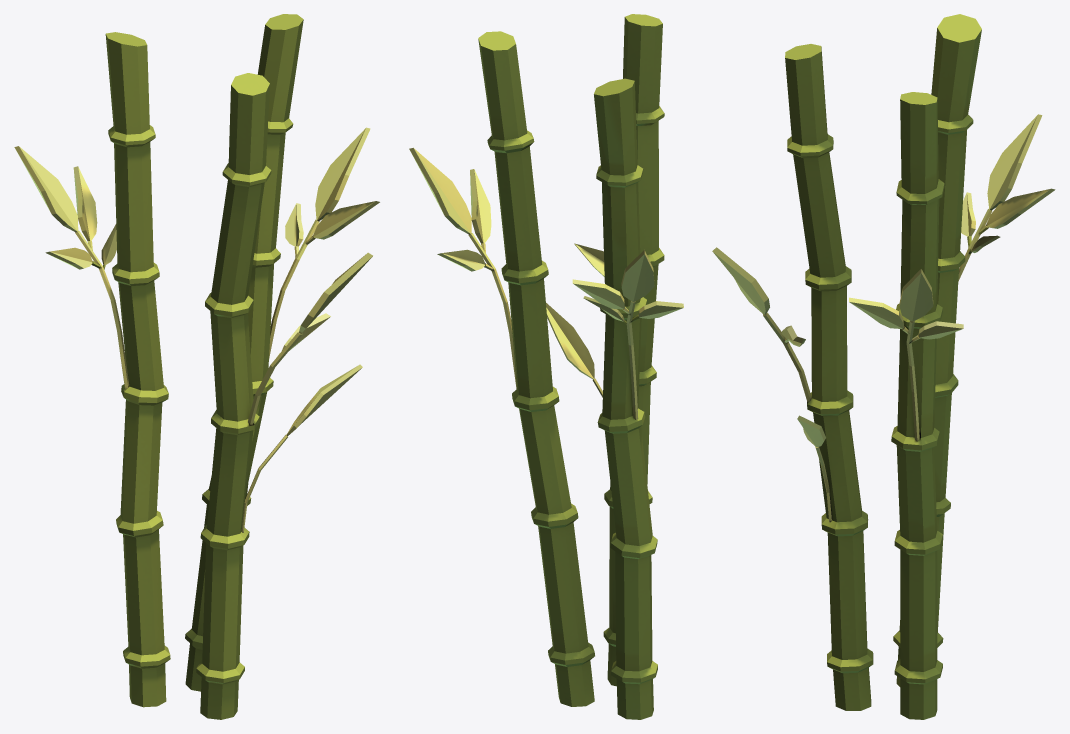
The model's file is bamboo.glb.
3 renders of one model, left to right at view 1: azimuth 30°, elevation 25°; view 2: azimuth 150°, elevation 25°; view 3: azimuth 270°, elevation 25°, orthographic. The views are drawn at different scales.
Visible parts, largest first — view 1: node-0; view 2: node-0; view 3: node-0.
Boxes of the visible parts, left/top/right/bottom form: node-0: left=14, top=14, right=379, bottom=719; node-0: left=409, top=14, right=683, bottom=719; node-0: left=712, top=14, right=1055, bottom=719.
Size of the model in its own units: 0.8979 by 1.85 by 0.873.
Materials: 1 (1 with a texture image).
